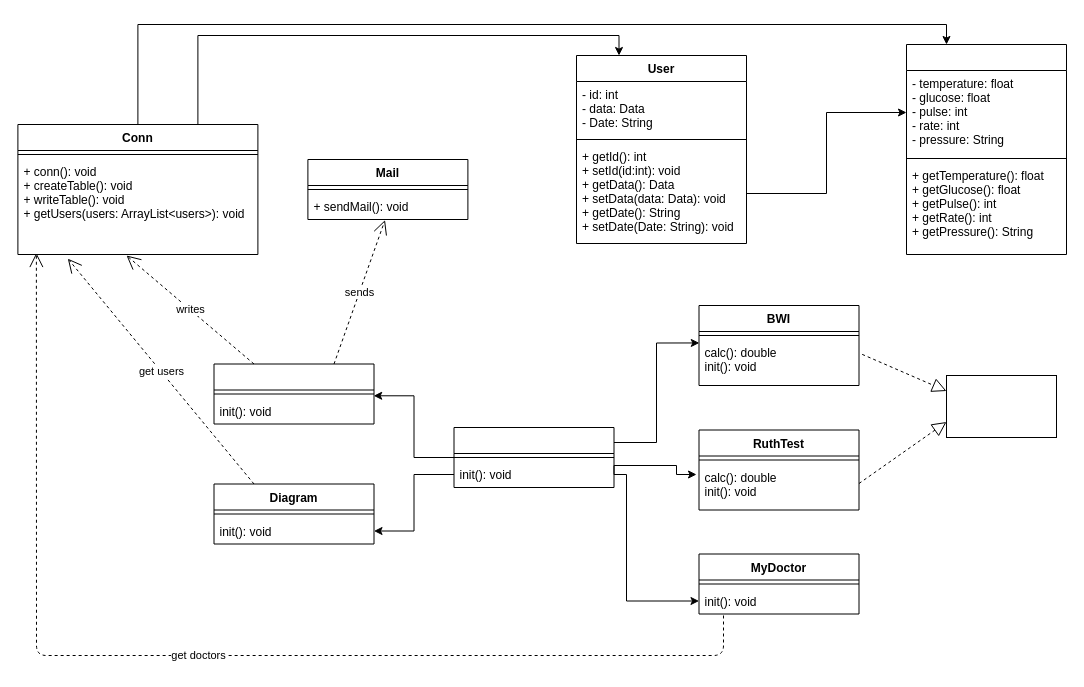
Some shapes in this 1084 by 687 pixel diagram are drawn without their labels. The shapes that lost their labels are listed below. From the top down, each one's box as (x1, y1, x2, y2) in pixels, then its label:
(906, 44, 1066, 254): Data
(213, 363, 374, 424): Send
(946, 374, 1056, 438): «interface» Calculable
(453, 426, 614, 488): MenuController
